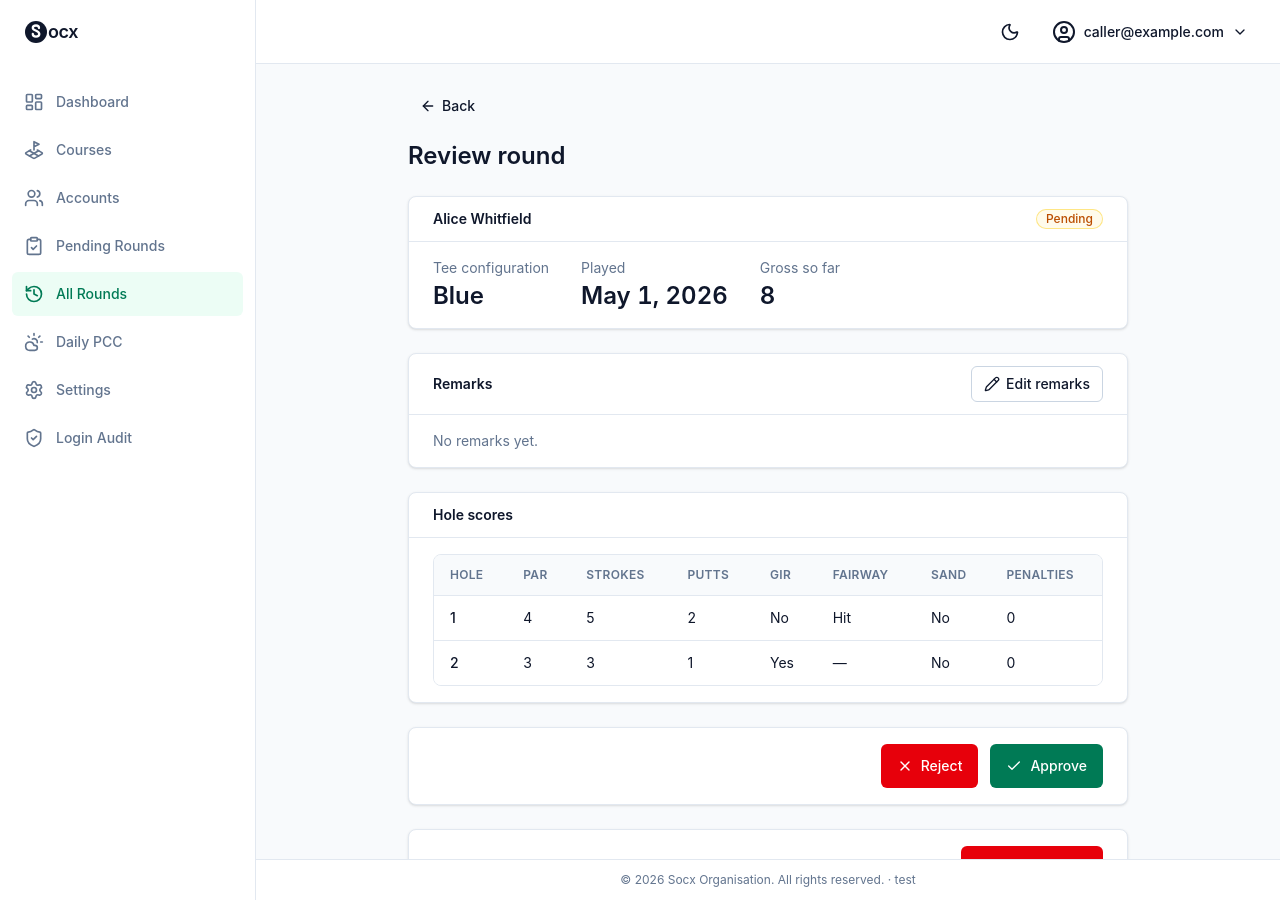
AdminRoundReviewPage › approves the round, shows a toast, and navigates back to the queue
Click the button "Approve": (1047, 766) 990,744 -> 1103,788
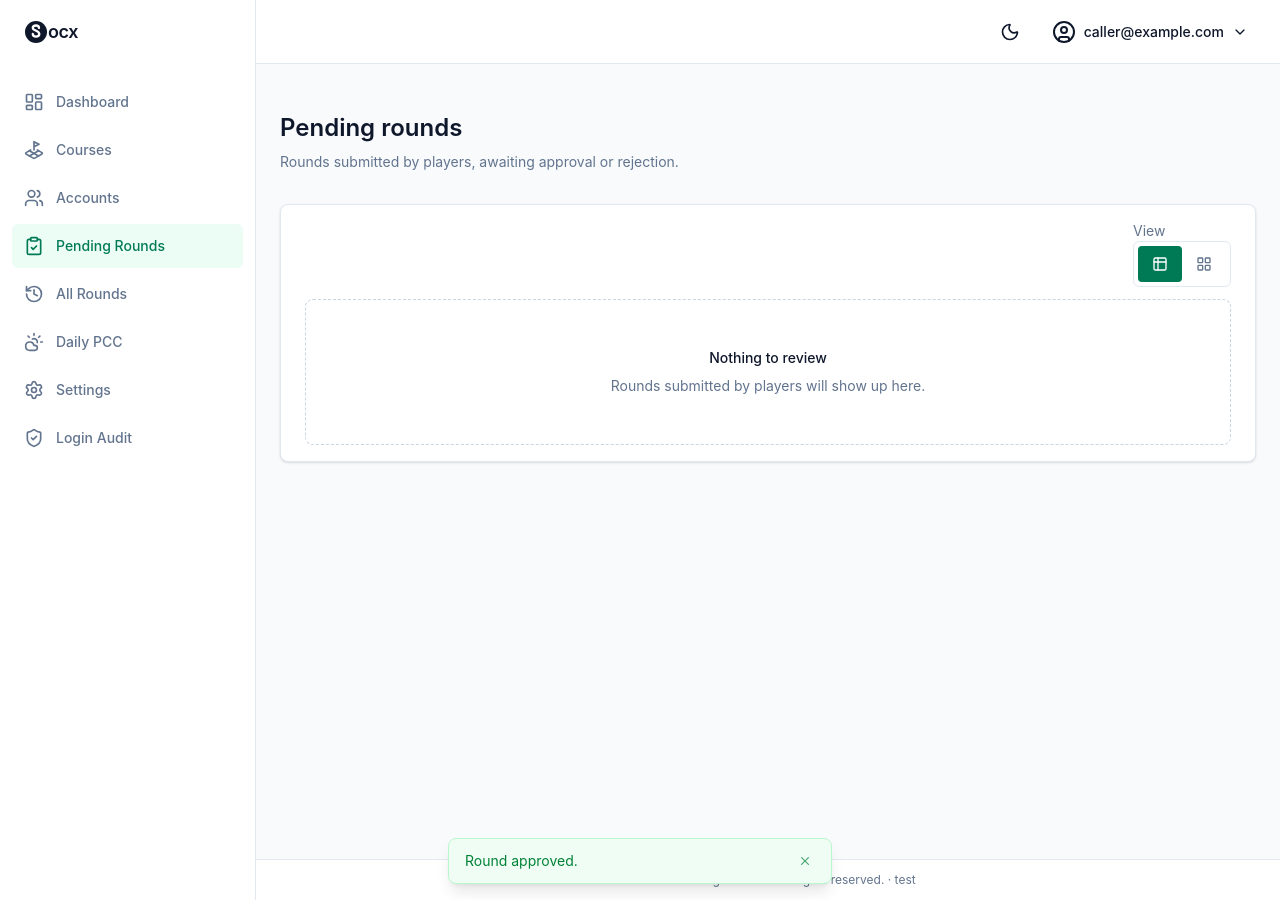
Now the message reads "Round approved.", box 465,852 -> 578,869
Now the heading "Pending rounds" is shown, box 280,113 -> 462,142
